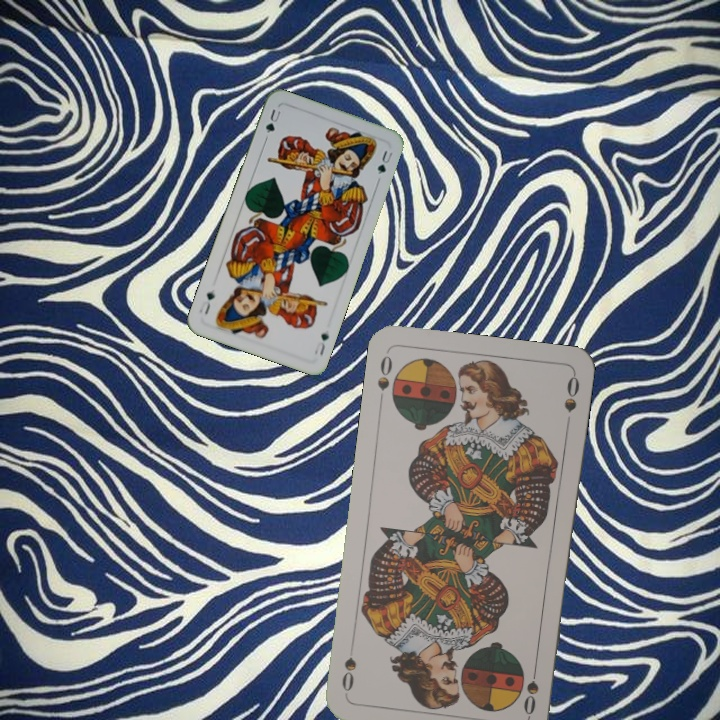GU: (261, 105, 283, 137), (310, 329, 331, 359)
SO: (519, 659, 541, 718), (373, 351, 395, 393)
